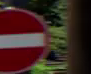No entry: (0, 6, 52, 73)
